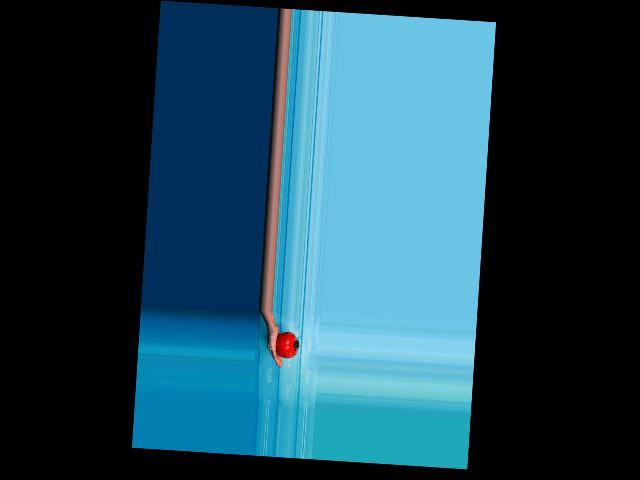tomato: (274, 332, 299, 359)
